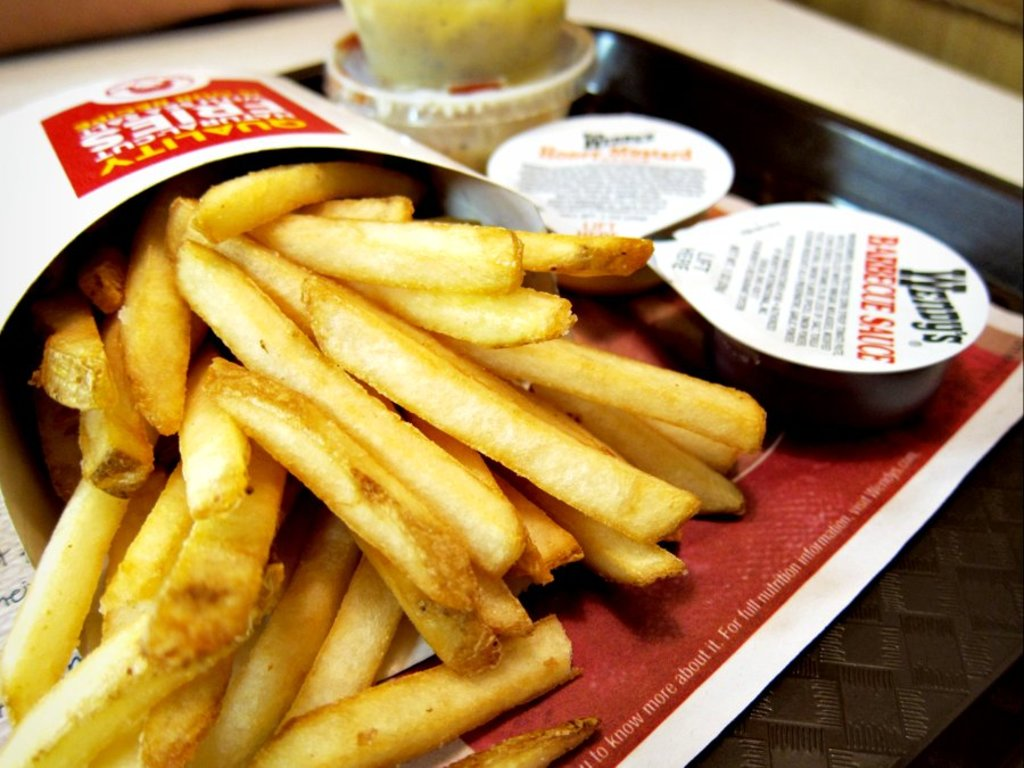French fries: (7, 152, 787, 745)
